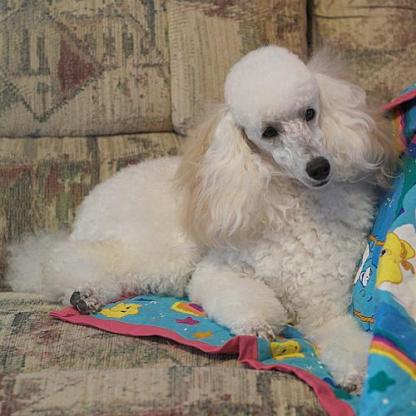miniature_poodle: (4, 41, 404, 395)
